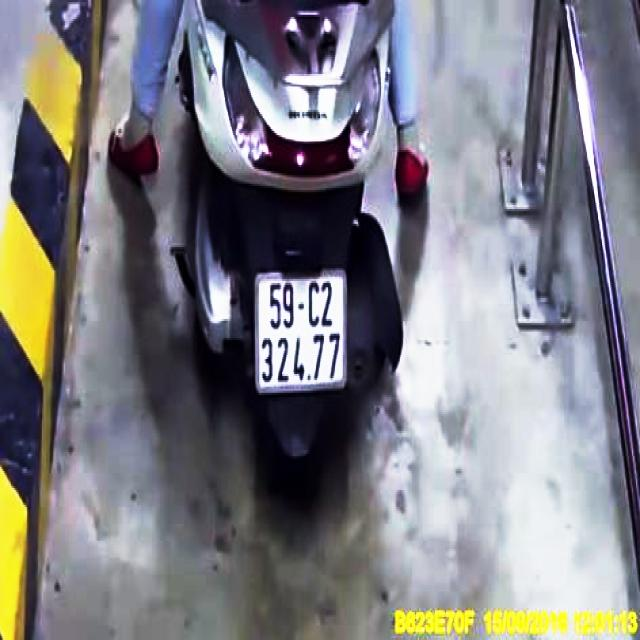license_plate: (257, 274, 348, 392)
